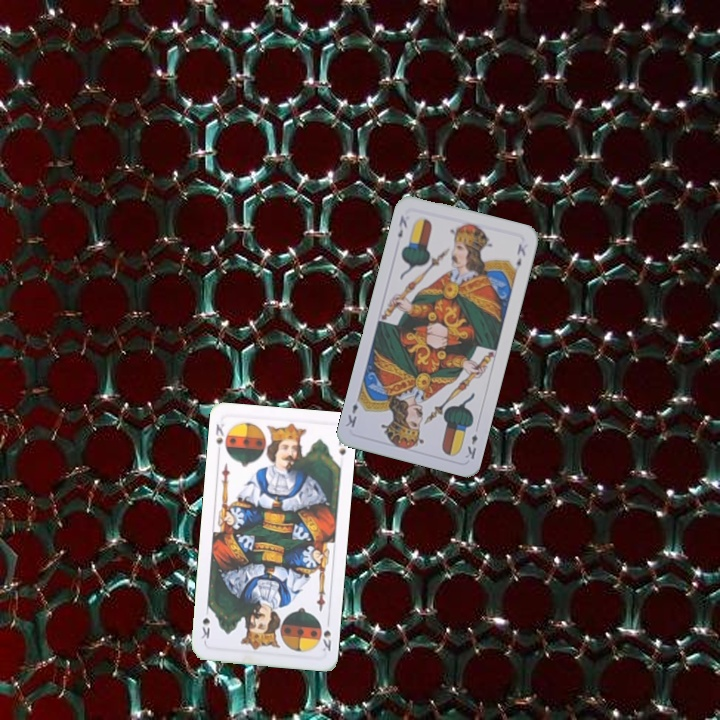EK: (461, 430, 480, 462), (394, 211, 410, 240)
SK: (212, 419, 231, 455), (318, 626, 334, 655)
